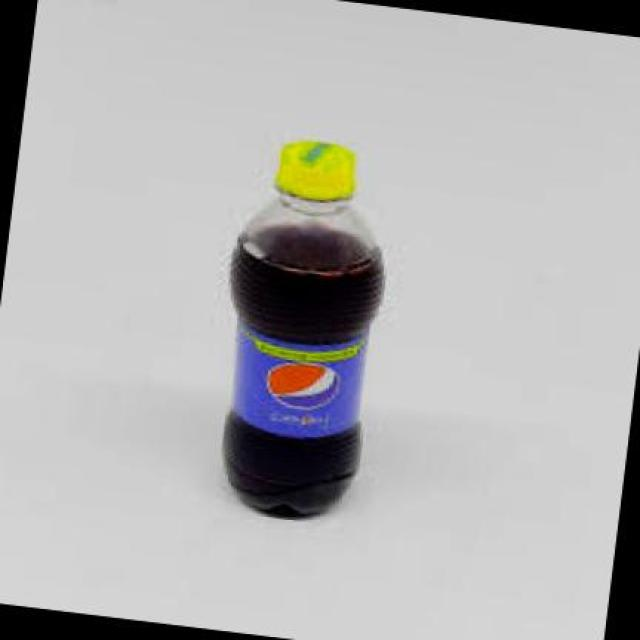high: (224, 141, 384, 514)
